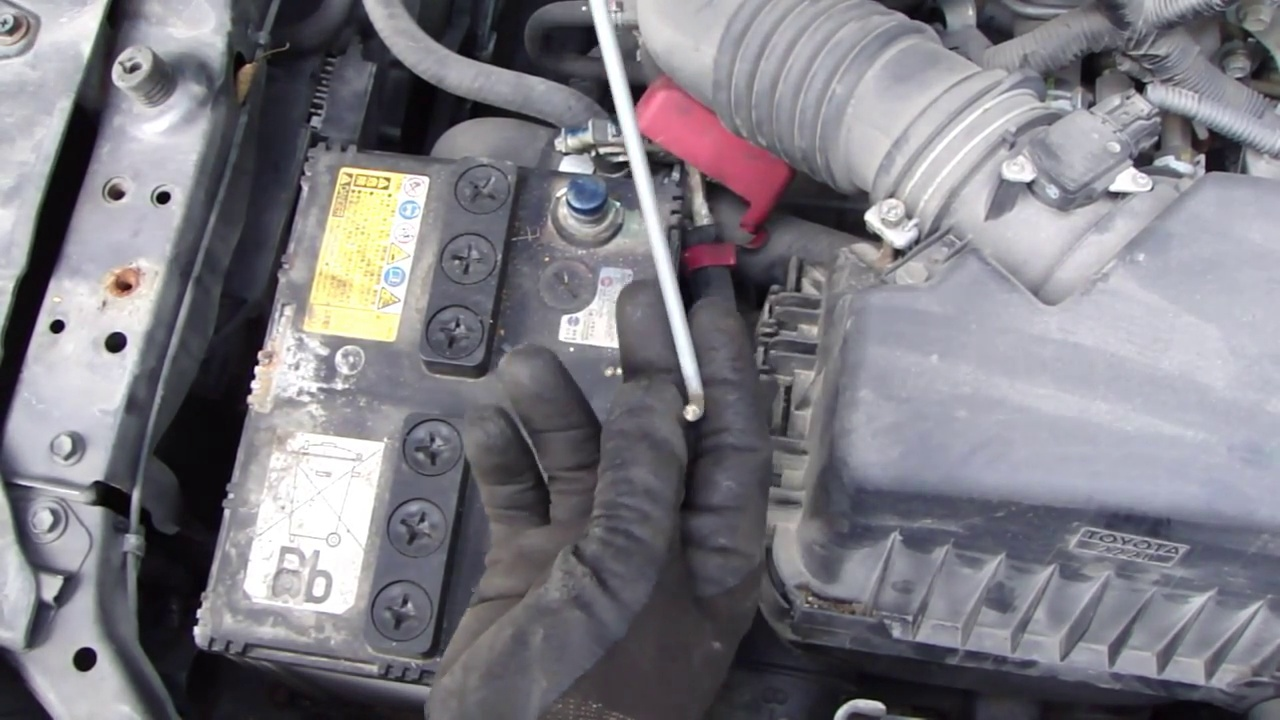battery: (197, 138, 685, 680)
pos_disconnected: (524, 83, 770, 262)
